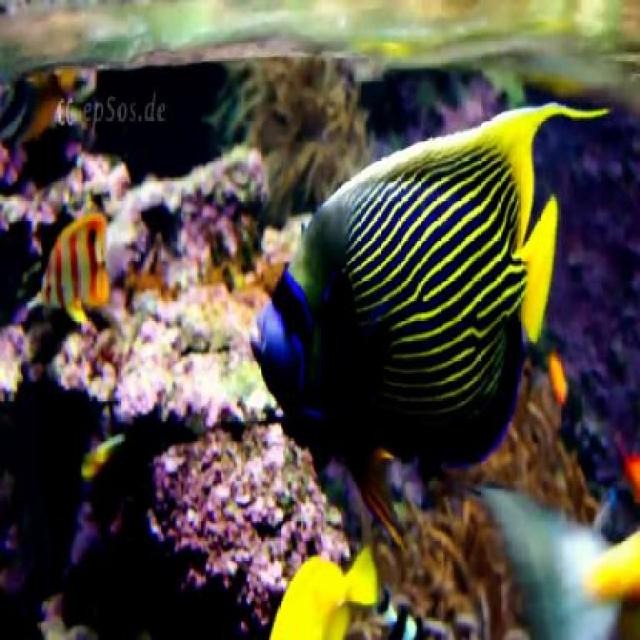AngelFish: (260, 103, 614, 468)
